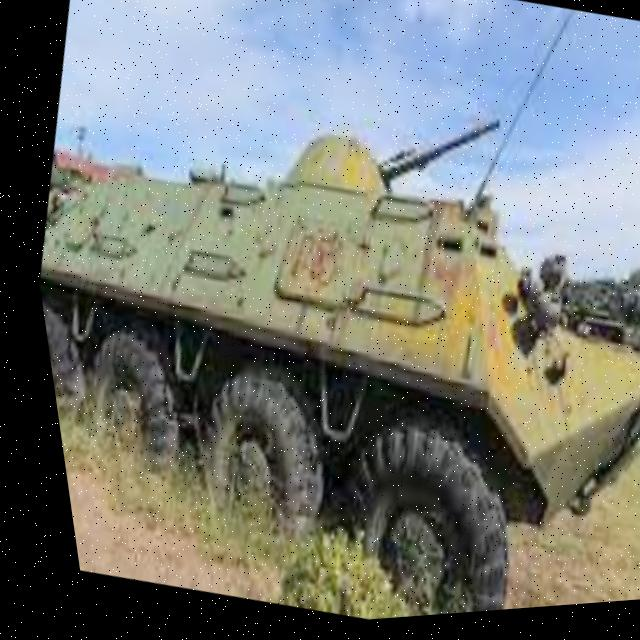MIL_APC: (12, 69, 640, 640)
